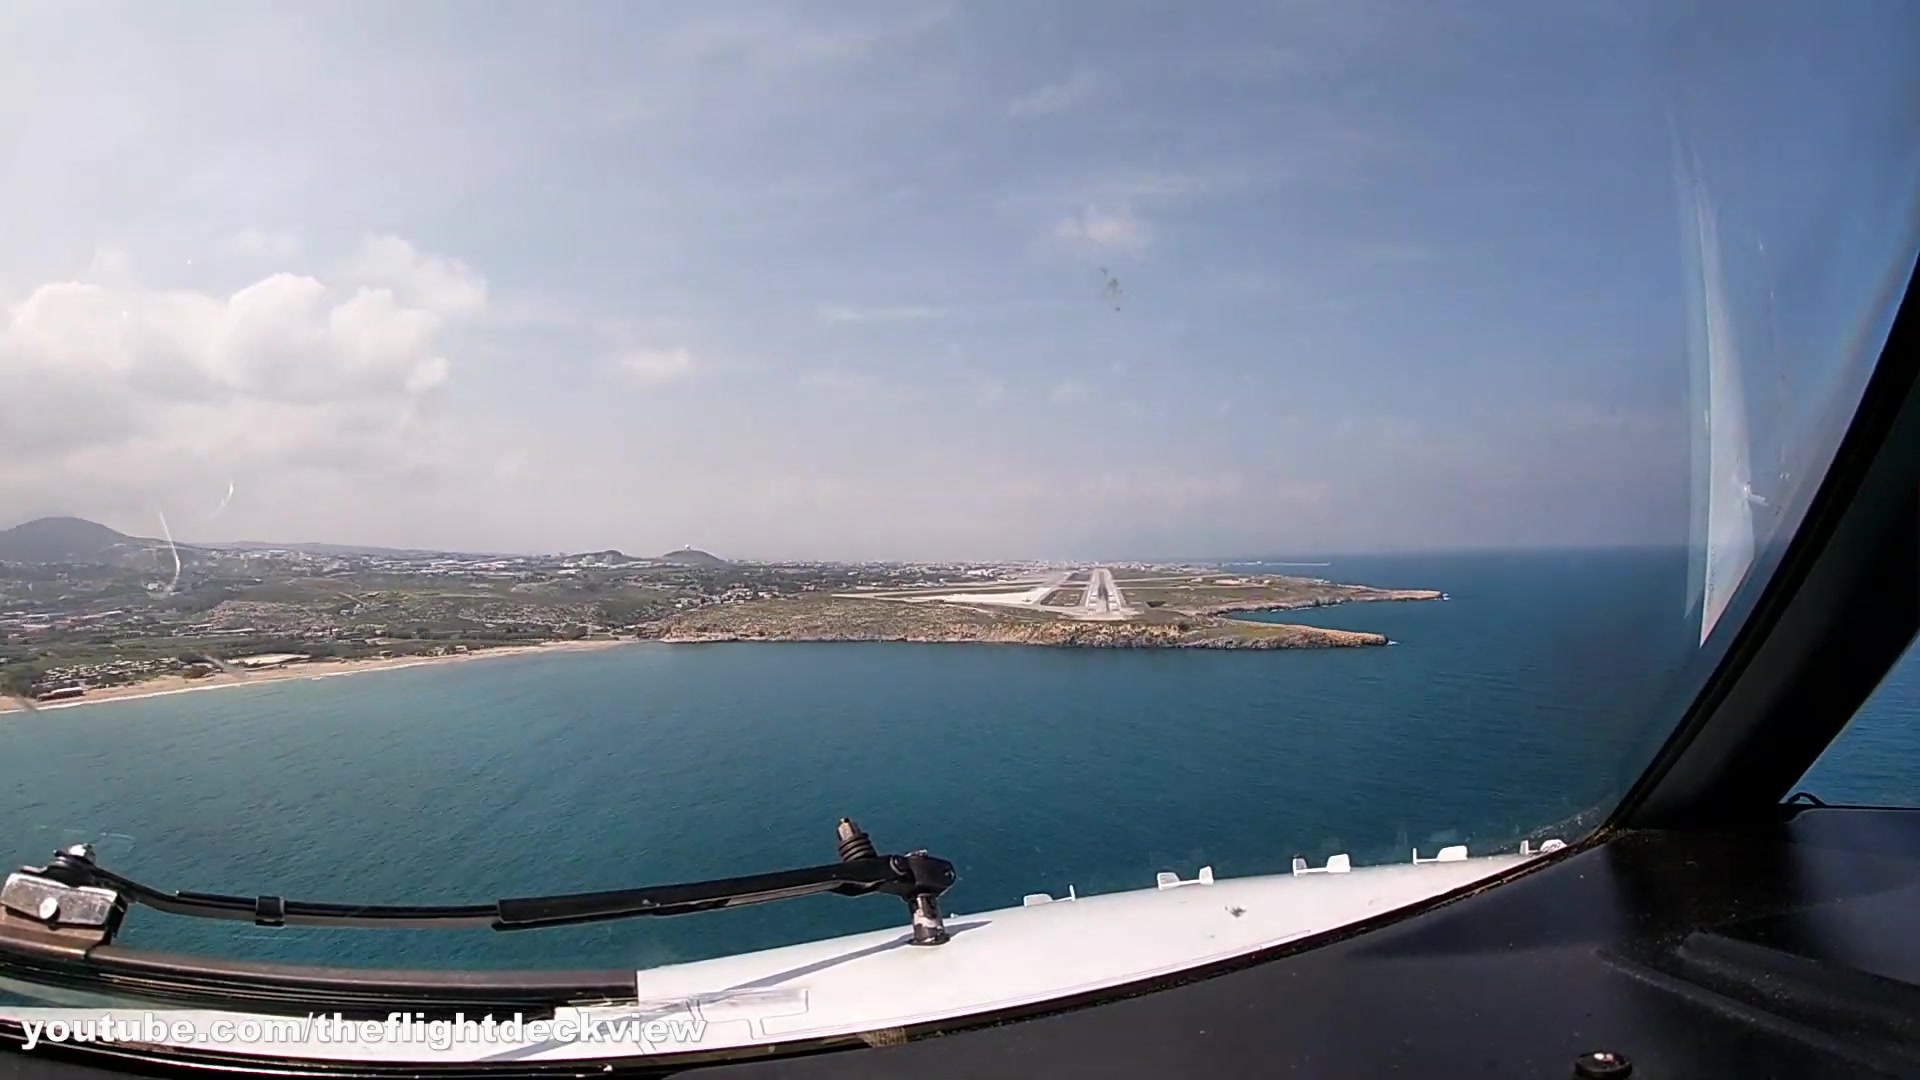runway: (1079, 566, 1127, 621)
